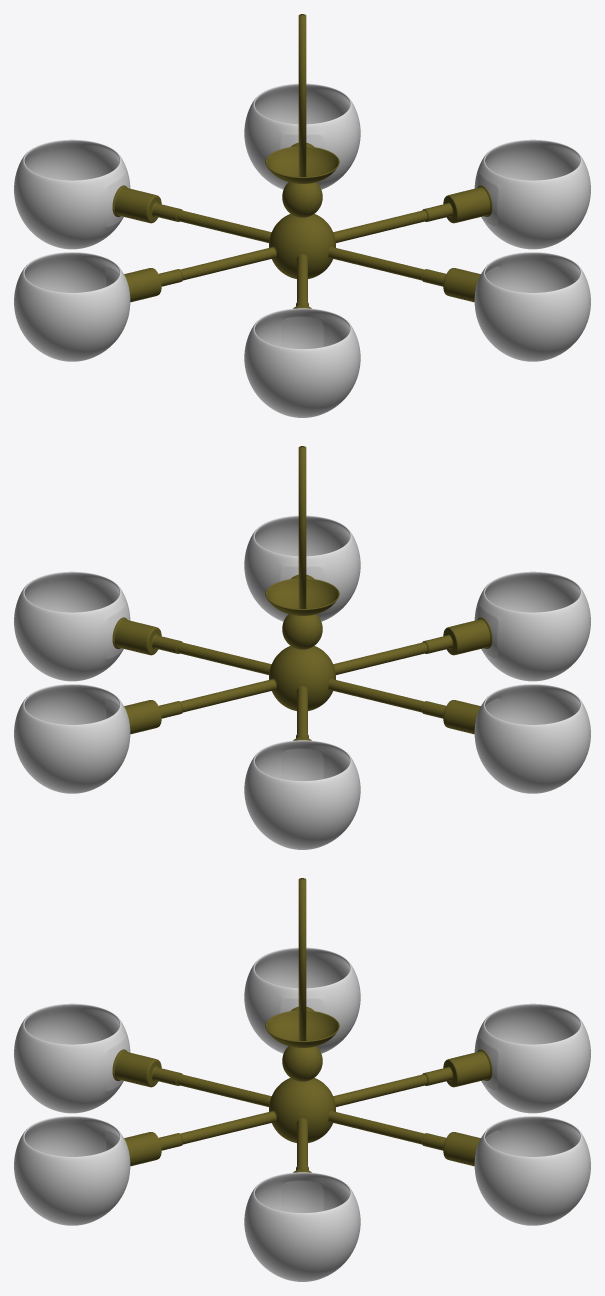
Rendered from modern_ceiling_light_fixture.glb.
The picture shows the model from 3 angles, top to bottom: view 1: azimuth 30°, elevation 25°; view 2: azimuth 150°, elevation 25°; view 3: azimuth 270°, elevation 25°; orthographic projection.
Visible parts, largest first — view 1: Pole.004_11, Pole.006_15, Pole.001_5, Pole.003_9, Pole.005_13, Pole.002_7, Ball_3, Ball.002_2, Anchor_0, Ball.001_1; view 2: Pole.002_7, Pole.004_11, Pole.001_5, Pole.005_13, Pole.003_9, Pole.006_15, Ball_3, Ball.002_2, Anchor_0, Ball.001_1; view 3: Pole.002_7, Pole.006_15, Pole.003_9, Pole.005_13, Pole.001_5, Pole.004_11, Ball_3, Ball.002_2, Anchor_0, Ball.001_1.
Part boxes in pixels (x1,y1,x2,y2): Pole.004_11: (14, 246, 276, 361); Pole.006_15: (328, 246, 590, 361); Pole.001_5: (333, 139, 590, 249); Pole.003_9: (14, 139, 271, 249); Pole.005_13: (244, 254, 360, 417); Pole.002_7: (244, 83, 360, 189); Ball_3: (269, 214, 335, 278); Ball.002_2: (265, 146, 339, 183); Anchor_0: (298, 14, 306, 176); Ball.001_1: (282, 182, 322, 217); Pole.002_7: (14, 678, 276, 793); Pole.004_11: (328, 678, 590, 793); Pole.001_5: (14, 571, 271, 681); Pole.005_13: (333, 571, 590, 681); Pole.003_9: (244, 686, 360, 849); Pole.006_15: (244, 515, 360, 621); Ball_3: (269, 646, 335, 710); Ball.002_2: (265, 578, 339, 615); Anchor_0: (298, 446, 306, 608); Ball.001_1: (282, 614, 322, 649); Pole.002_7: (328, 1110, 590, 1225); Pole.006_15: (14, 1110, 276, 1225); Pole.003_9: (333, 1003, 590, 1113); Pole.005_13: (14, 1003, 271, 1113); Pole.001_5: (244, 1118, 360, 1281); Pole.004_11: (244, 947, 360, 1053); Ball_3: (269, 1078, 335, 1142); Ball.002_2: (265, 1010, 339, 1047); Anchor_0: (298, 878, 306, 1040); Ball.001_1: (282, 1046, 322, 1081).
Bounding box in the file's own units: 1.84 × 0.8901 × 1.63.
